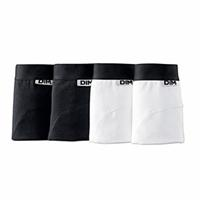mutande: (131, 62, 183, 144), (89, 63, 133, 143), (48, 63, 92, 140), (11, 63, 52, 140)
